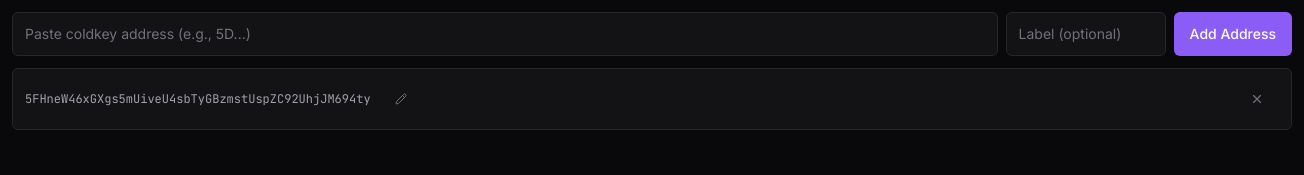
Test: AddressManager › rejects duplicate addresses
Type "5FHneW46xGXgs5mUiveU4sbTyGBzmstUspZC92UhjJM694ty" into the field named "coldkey address input".
click(505, 34); type("5FHneW46xGXgs5mUiveU4sbTyGBzmstUspZC92UhjJM694ty")  # box 12,12 -> 998,56
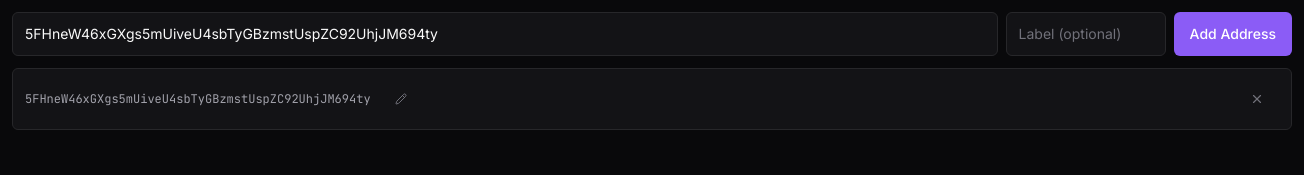
Click the button "Add Address".
click(1233, 34)  # box 1174,12 -> 1292,56
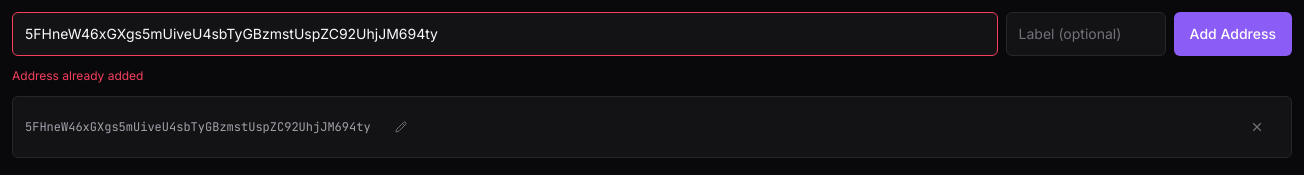
Result: the message shows "already added" at 12,68 -> 144,83
